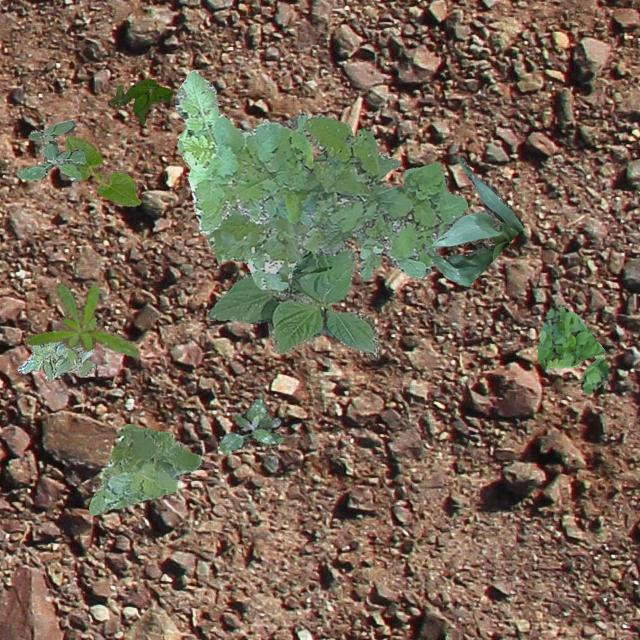crop: (206, 150, 400, 358), (420, 157, 522, 286), (64, 132, 140, 205)
weed: (174, 69, 466, 278), (206, 113, 387, 290), (88, 422, 200, 514), (24, 282, 138, 356), (536, 304, 608, 392), (16, 118, 86, 180), (216, 398, 282, 453), (16, 340, 94, 380), (106, 78, 172, 124)
